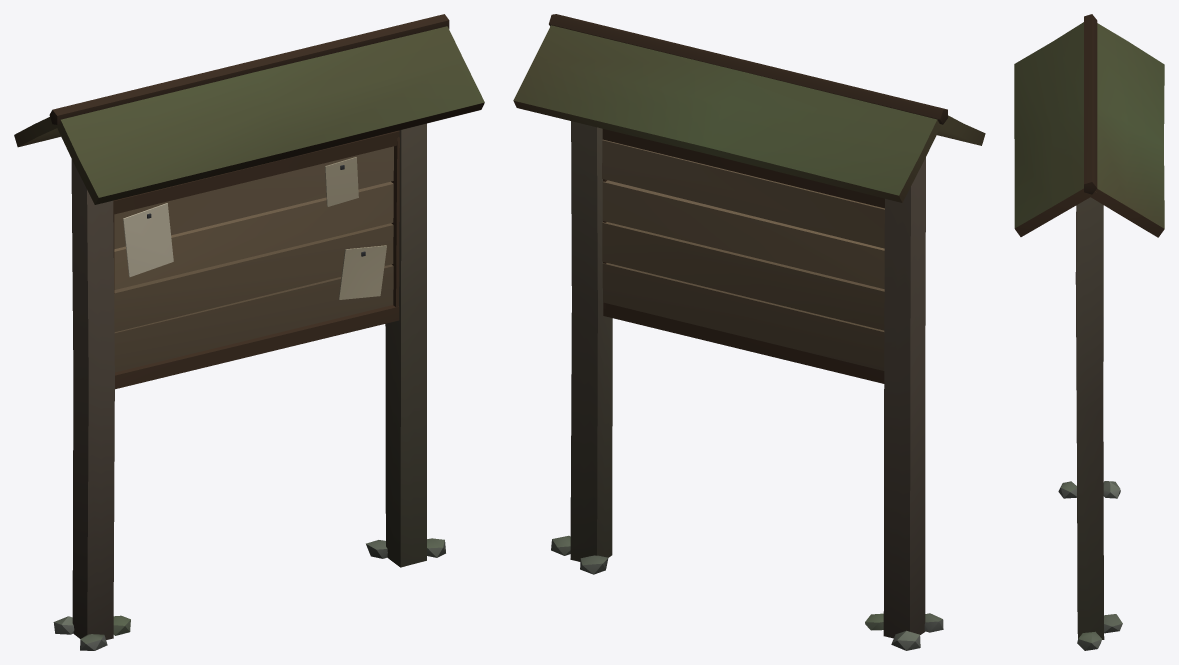
File: ph_prop_notice_board.glb
The picture shows the model from 3 angles, left to right: view 1: azimuth 30°, elevation 25°; view 2: azimuth 150°, elevation 25°; view 3: azimuth 270°, elevation 25°; orthographic projection. The views are drawn at different scales.
Parts seen in each view (by area): view 1: ph_prop_notice_board; view 2: ph_prop_notice_board; view 3: ph_prop_notice_board.
Boxes of the visible parts, x1,y1,x2,y2 form: ph_prop_notice_board: (14,14,484,650); ph_prop_notice_board: (513,14,985,650); ph_prop_notice_board: (1014,14,1164,650).
Size of the model in its own units: 1.5 by 1.97 by 0.5683.
